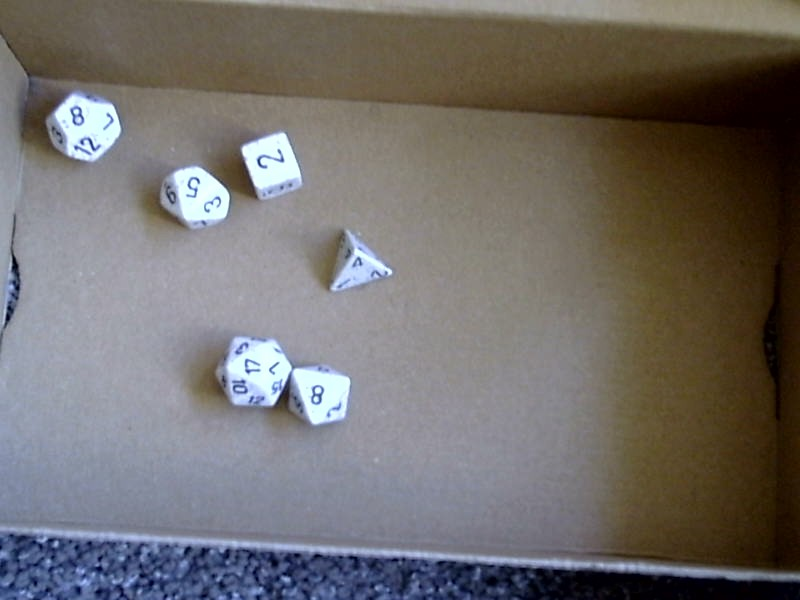d10 5: (151, 157, 233, 234)
d12 8: (41, 81, 126, 170)
d20 17: (206, 317, 293, 411)
d4 4: (321, 220, 400, 301)
d6 2: (238, 118, 309, 201)
d8 8: (288, 355, 360, 429)
